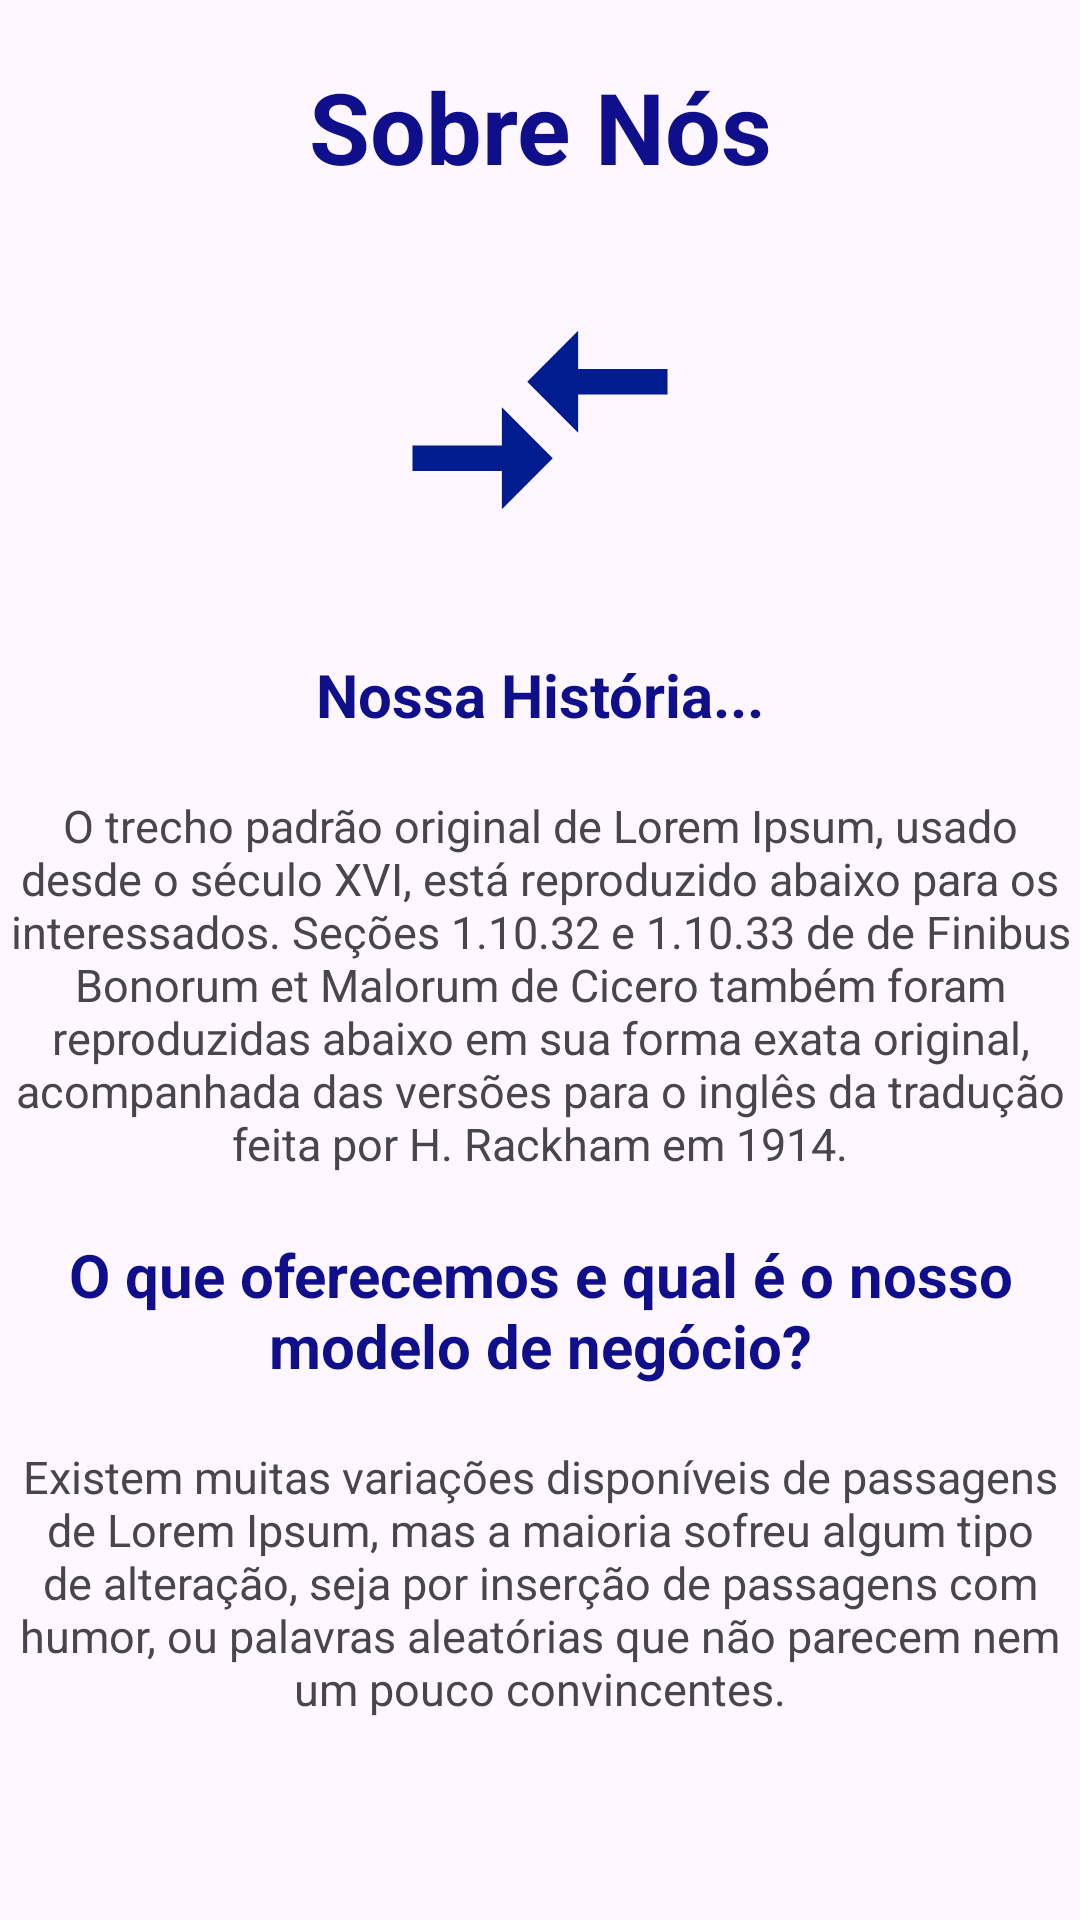

Named icons in this screenshot (1080px×1920px) and their centers, point (x, y):
seta sobre: point (540, 420)
